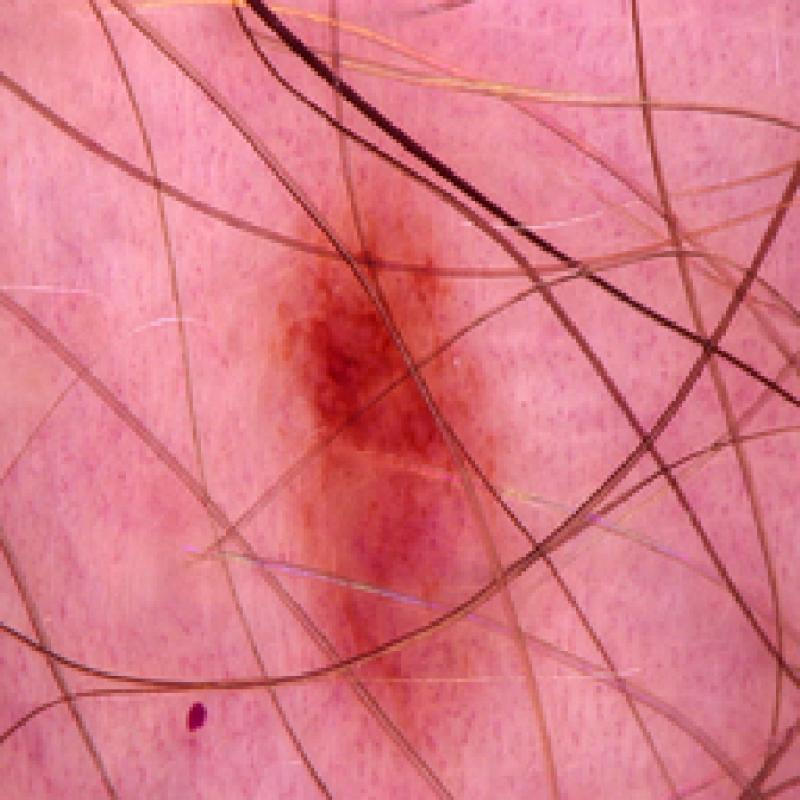benign: (249, 171, 512, 731)
